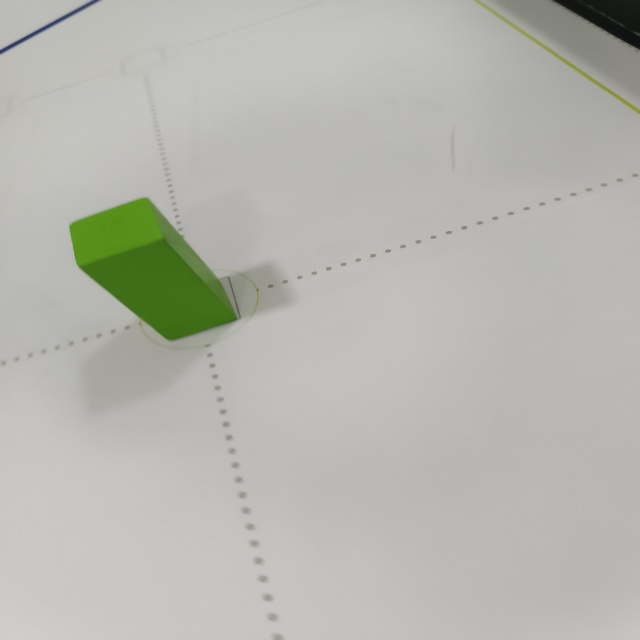blue line: (0, 0, 100, 56)
green rectangular prism: (65, 197, 240, 340)
